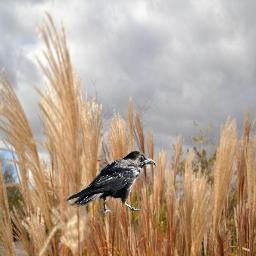Crow: (65, 150, 156, 216)
